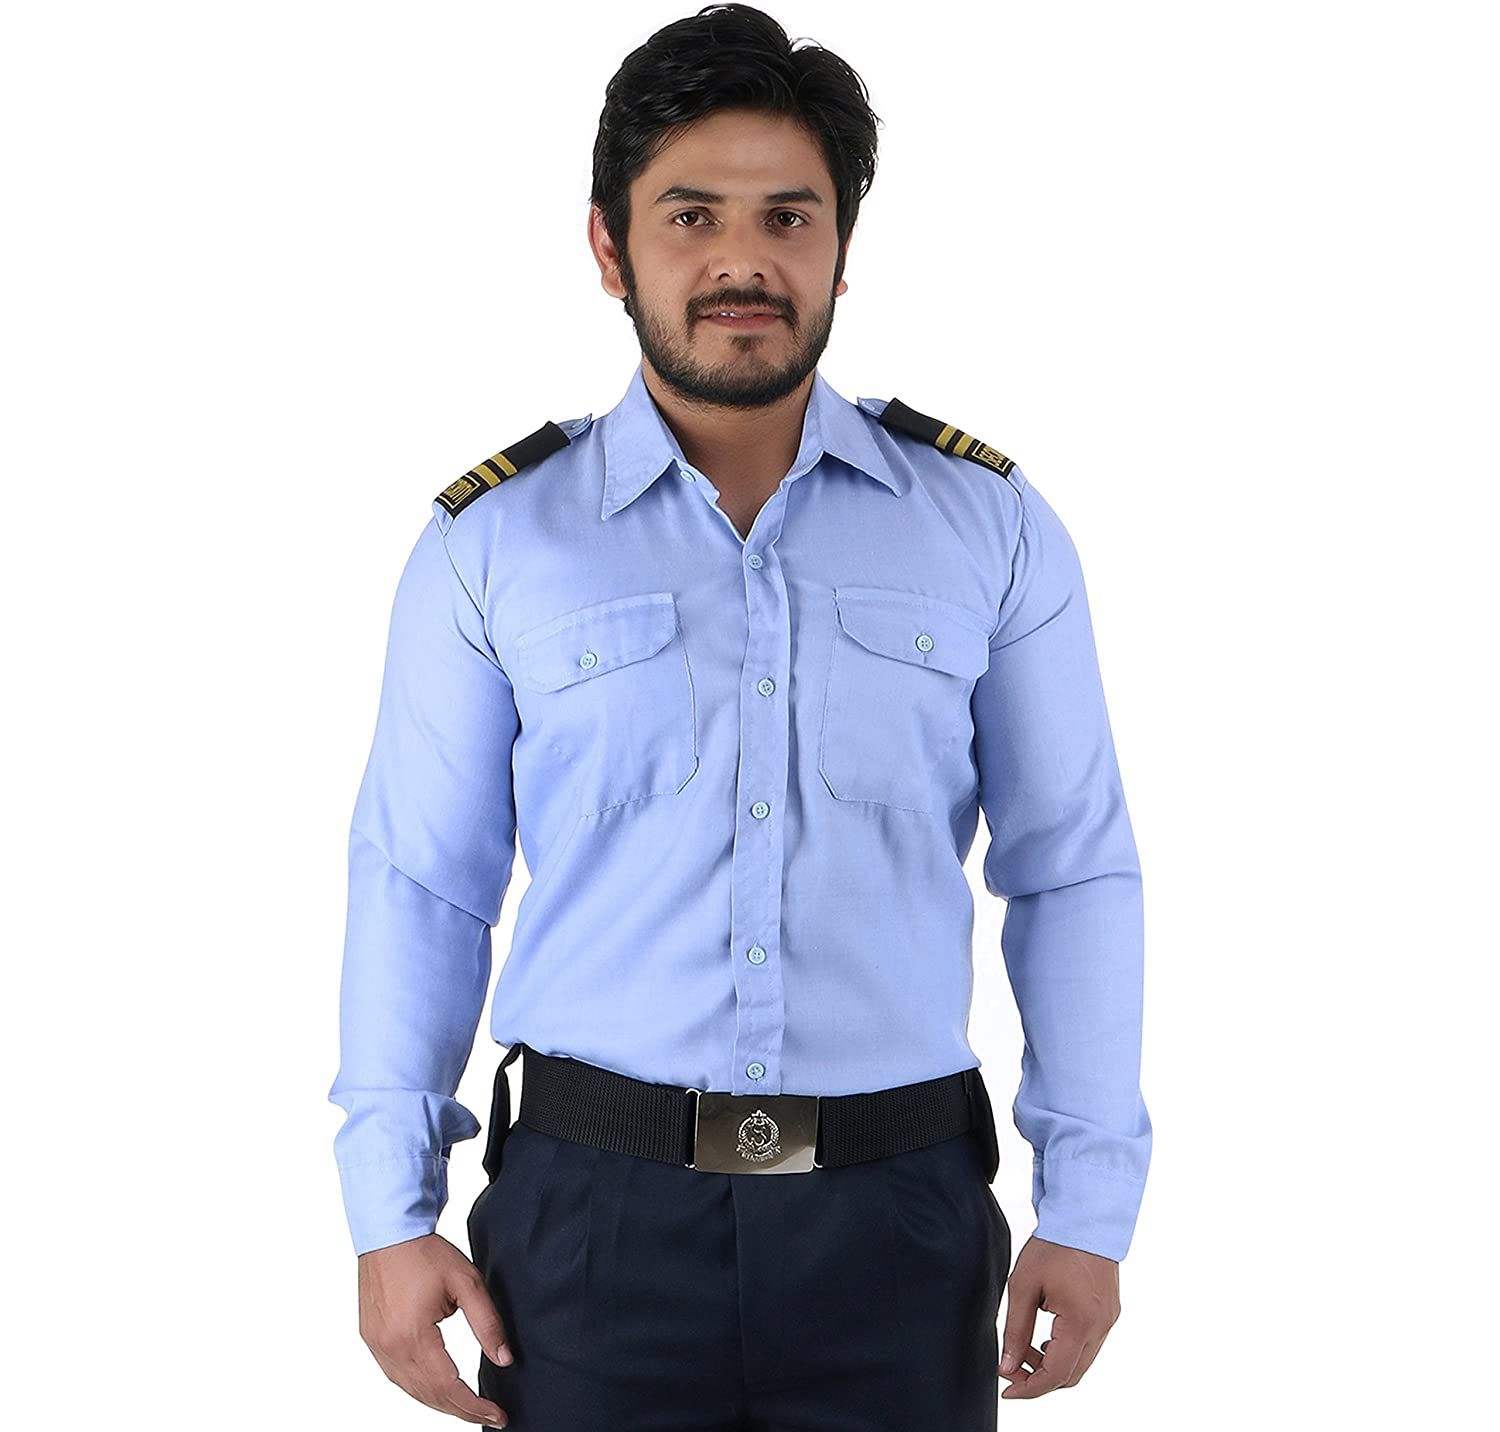uniform: (379, 380, 1137, 1403)
